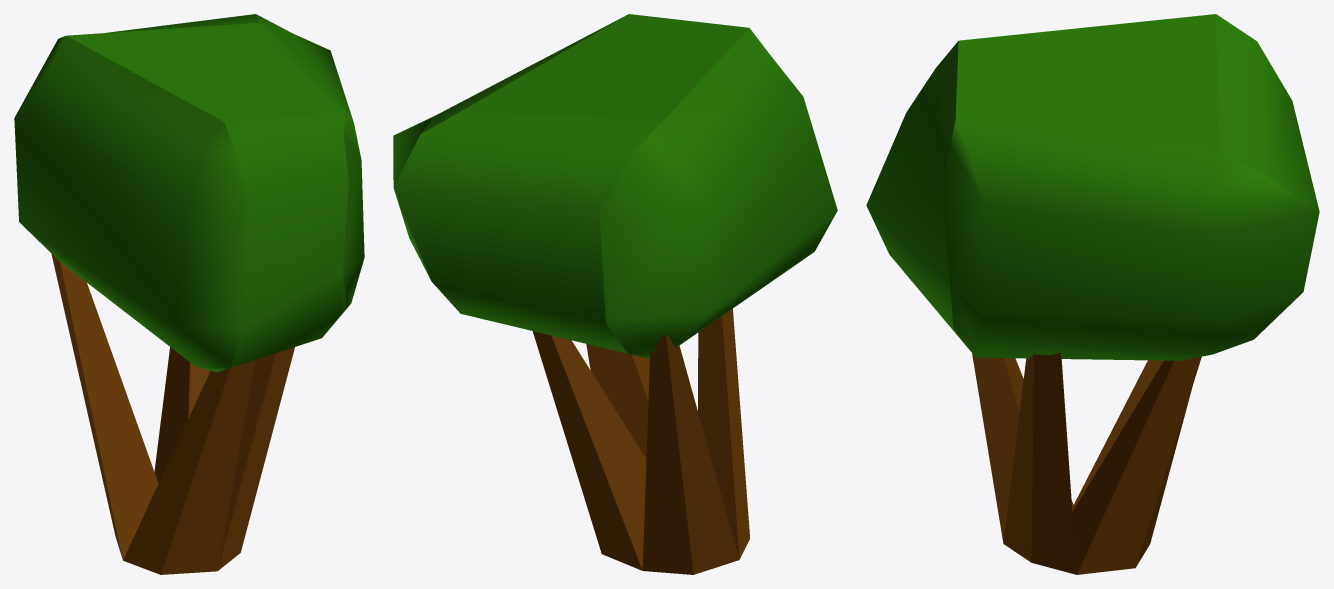
File: shrub.fbx
3 renders of one model, left to right at view 1: azimuth 30°, elevation 25°; view 2: azimuth 150°, elevation 25°; view 3: azimuth 270°, elevation 25°, orthographic. The views are drawn at different scales.
Visible parts, largest first — view 1: pCube3; view 2: pCube3; view 3: pCube3.
Part boxes in pixels (x1,y1,x2,y2): pCube3: (14,14,364,574); pCube3: (393,14,837,574); pCube3: (866,14,1319,574).
Size of the model in its own units: 2.12 by 3.09 by 2.52.
